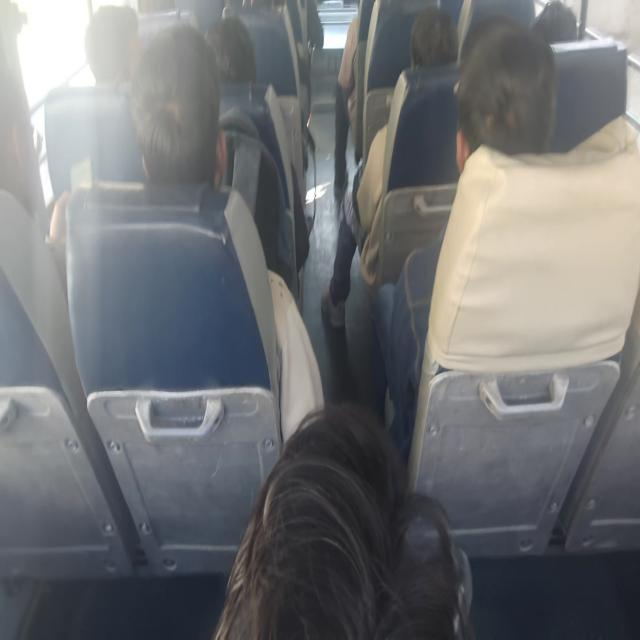person: (373, 14, 639, 464), (49, 20, 325, 442), (212, 400, 474, 638), (129, 22, 299, 296), (321, 6, 459, 328), (204, 13, 310, 288), (47, 4, 142, 241), (130, 22, 227, 188), (333, 4, 360, 200), (84, 3, 140, 88)
